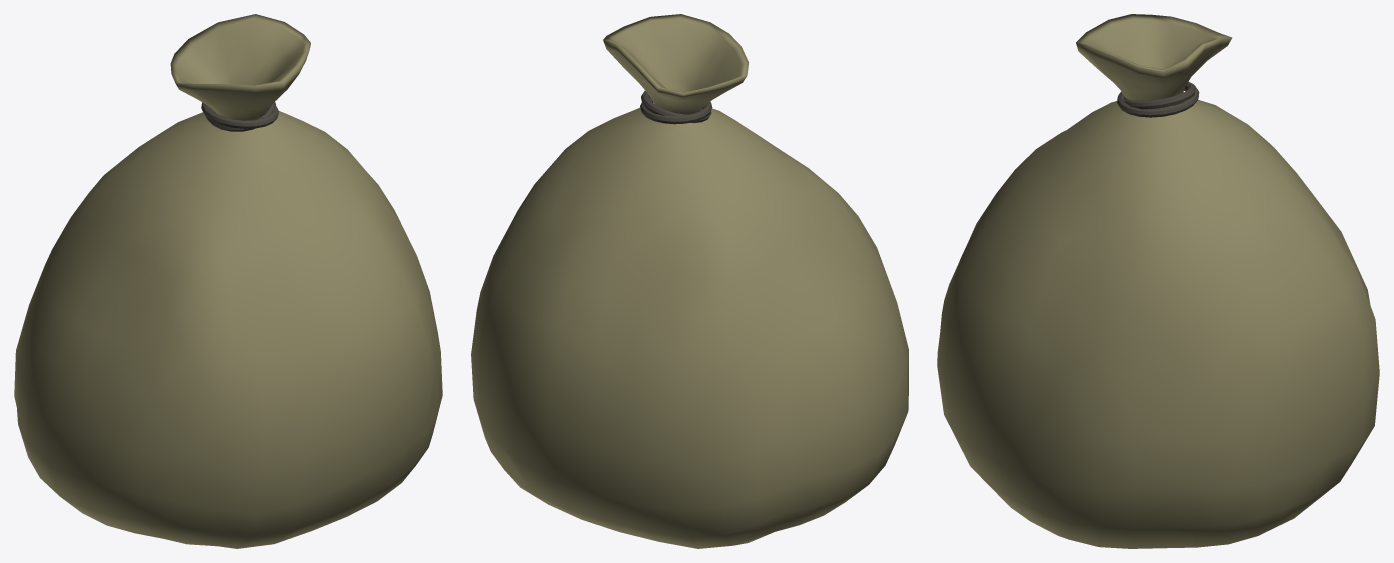
The model's file is sacco_soldi_vuoto_04.fbx.
3 views of the same model, side by side, from view 1: azimuth 30°, elevation 25°; view 2: azimuth 150°, elevation 25°; view 3: azimuth 270°, elevation 25° (orthographic). The views are drawn at different scales.
Parts seen in each view (by area): view 1: MSH_sacco_soldi_vuoto_04; view 2: MSH_sacco_soldi_vuoto_04; view 3: MSH_sacco_soldi_vuoto_04.
Boxes of the visible parts, left/top/right/bottom form: MSH_sacco_soldi_vuoto_04: left=14, top=14, right=442, bottom=548; MSH_sacco_soldi_vuoto_04: left=471, top=14, right=908, bottom=548; MSH_sacco_soldi_vuoto_04: left=937, top=14, right=1379, bottom=548.
Bounding box in the file's own units: 3.01 × 3.45 × 2.92.
